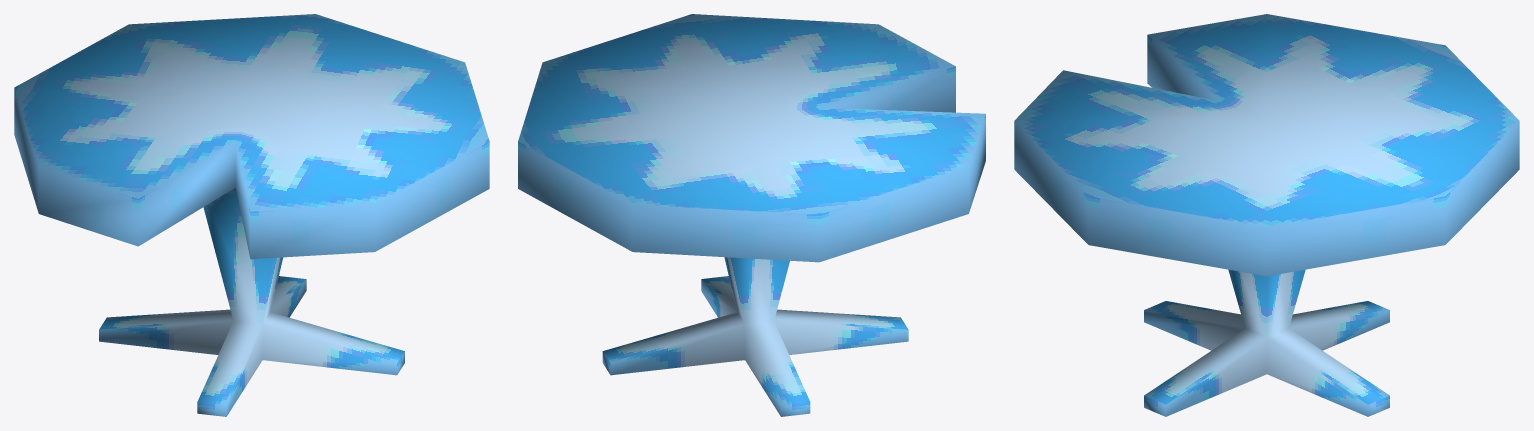
The model's file is int_flg_tableS.dae.
3 renders of one model, left to right at view 1: azimuth 30°, elevation 25°; view 2: azimuth 150°, elevation 25°; view 3: azimuth 270°, elevation 25°, orthographic. The views are drawn at different scales.
Visible parts, largest first — view 1: _0_0_node; view 2: _0_0_node; view 3: _0_0_node.
Boxes of the visible parts, x1,y1,x2,y2 form: _0_0_node: (14, 14, 489, 416); _0_0_node: (518, 14, 985, 416); _0_0_node: (1014, 14, 1519, 416).
Size of the model in its own units: 30 by 16 by 30.
1 material, 1 textured.
